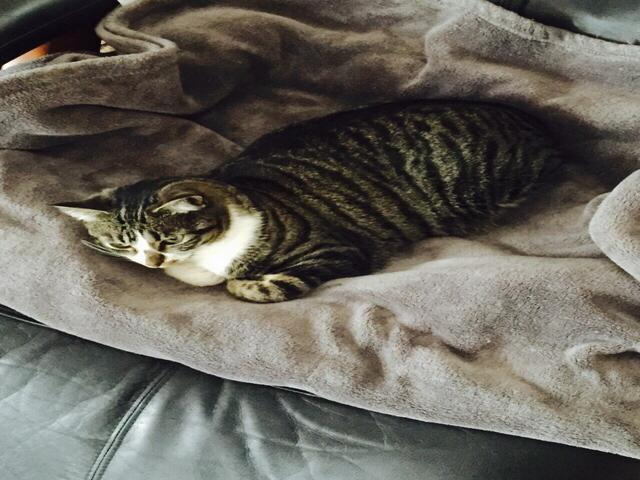playdoh: (54, 97, 575, 310)
